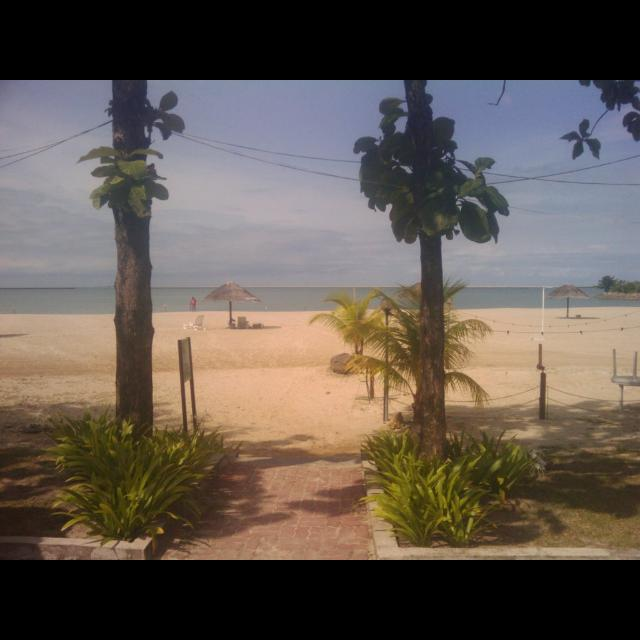Flower: (42, 418, 225, 534), (529, 449, 551, 477)
